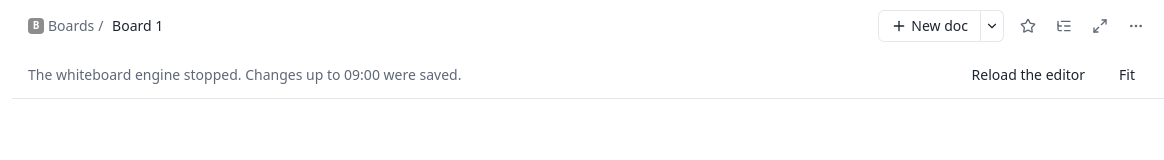
read-only fallback (BoardPreview) › a panic says up to when changes were saved, and Reload recreates the iframe
The width and height of the screenshot is (1164, 160).
Expected: the text "The whiteboard engine stopped. Changes up to 09:00 were saved." is shown, [28,65,461,84]
Click the button "Reload the editor" at x=1028, y=75, box [959,60,1098,90]
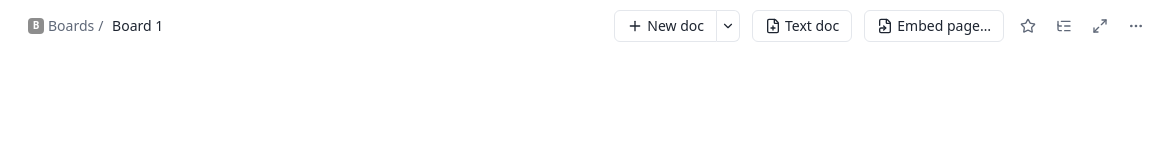
Result: the text "engine stopped" is gone
